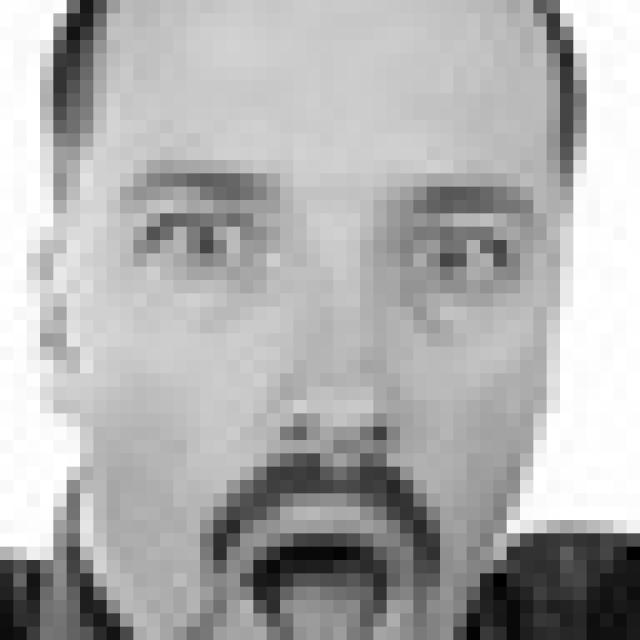surprise: (102, 161, 545, 640)
